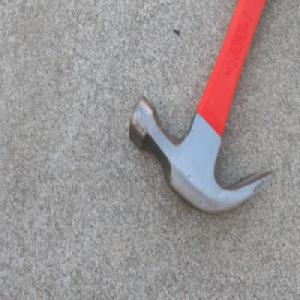Hammer: (124, 0, 276, 221)
